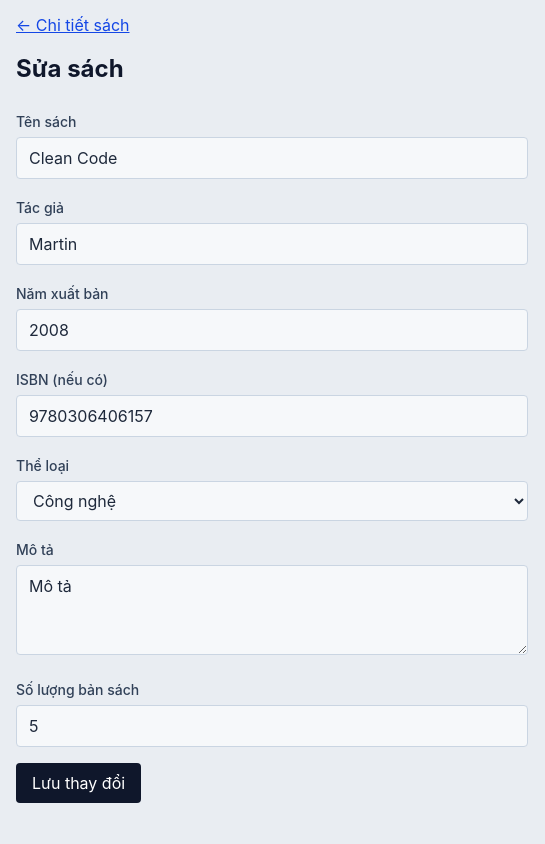
Test case: BookEdit › shows server field errors (duplicate ISBN)
Expected: the field labelled "Tên sách" is shown, [16,137,528,179]
Click the button "Lưu thay đổi" at (79, 783), box [16,763,141,803]
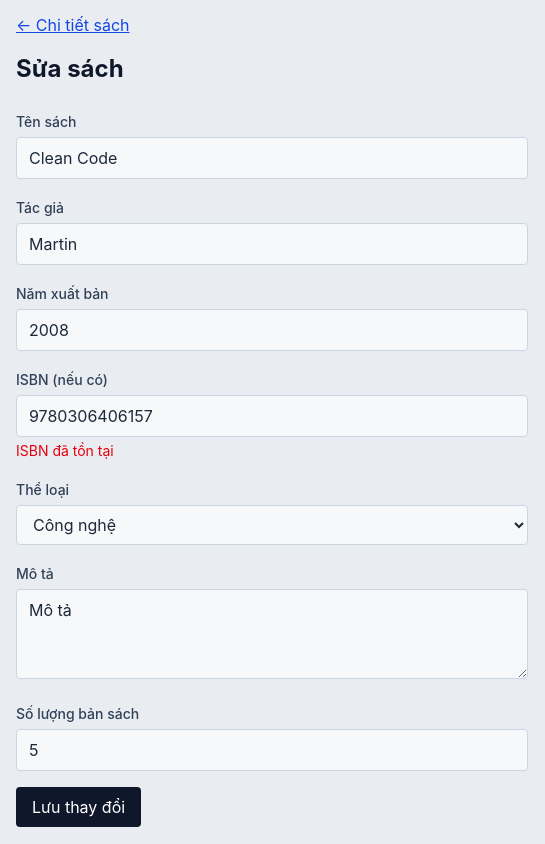
Now the text "ISBN đã tồn tại" is shown, box [16,442,114,459]
